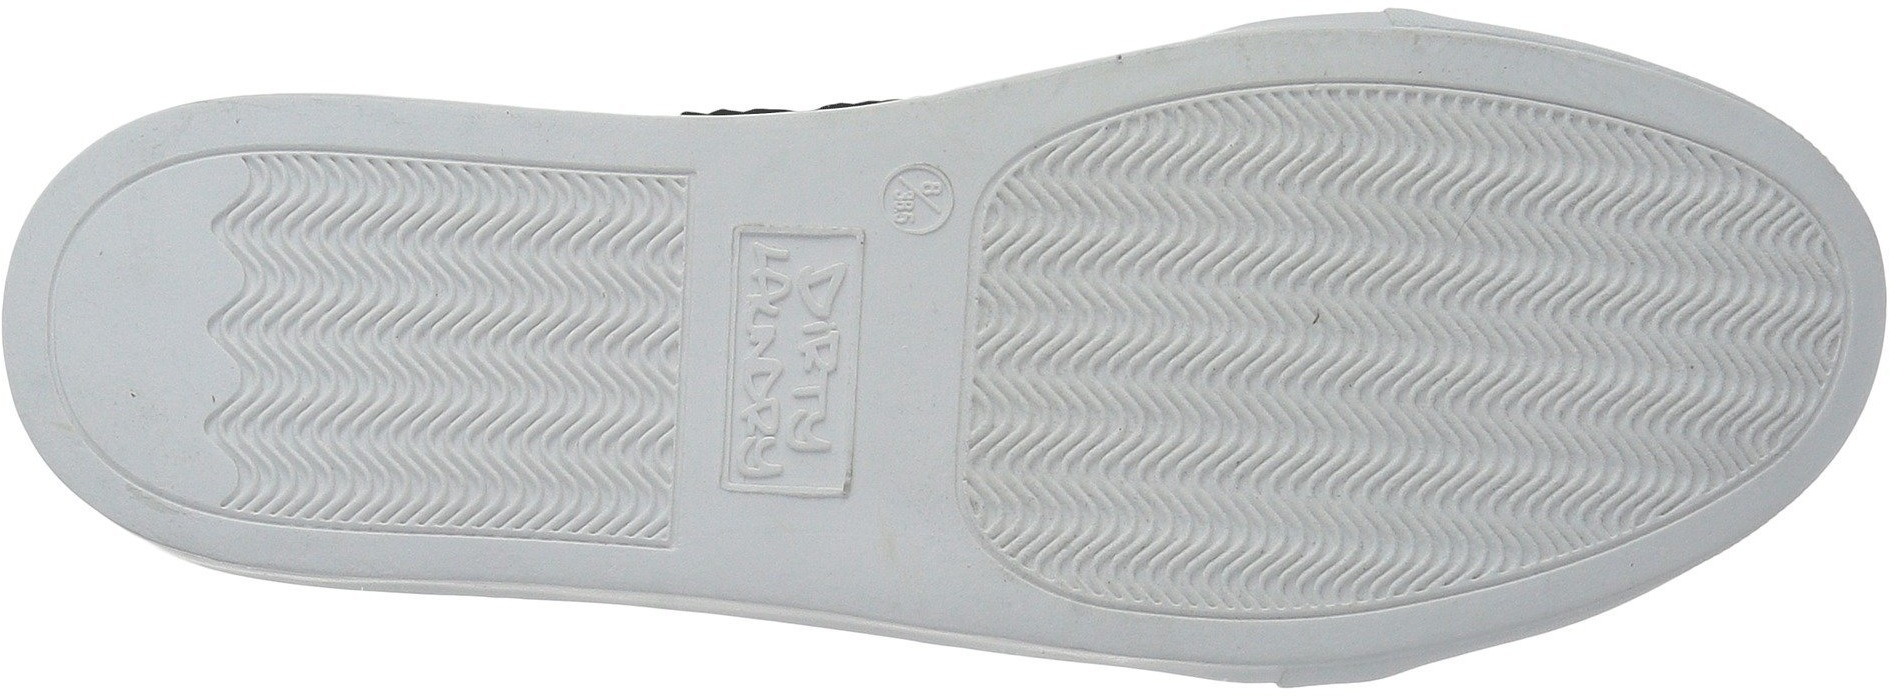chevron: (1276, 92, 1623, 399), (1012, 161, 1276, 436), (207, 169, 446, 395), (453, 184, 692, 389), (1628, 232, 1830, 443), (1279, 402, 1494, 598), (1094, 452, 1234, 597), (451, 396, 582, 536), (318, 400, 447, 527), (198, 393, 320, 515), (1500, 403, 1630, 517)
circle: (873, 157, 966, 242)
other: (71, 260, 207, 405)
quad: (695, 216, 954, 507), (704, 197, 873, 513)
text: (704, 197, 873, 513), (737, 238, 866, 361), (732, 362, 857, 483), (873, 157, 966, 242), (891, 173, 947, 228)
